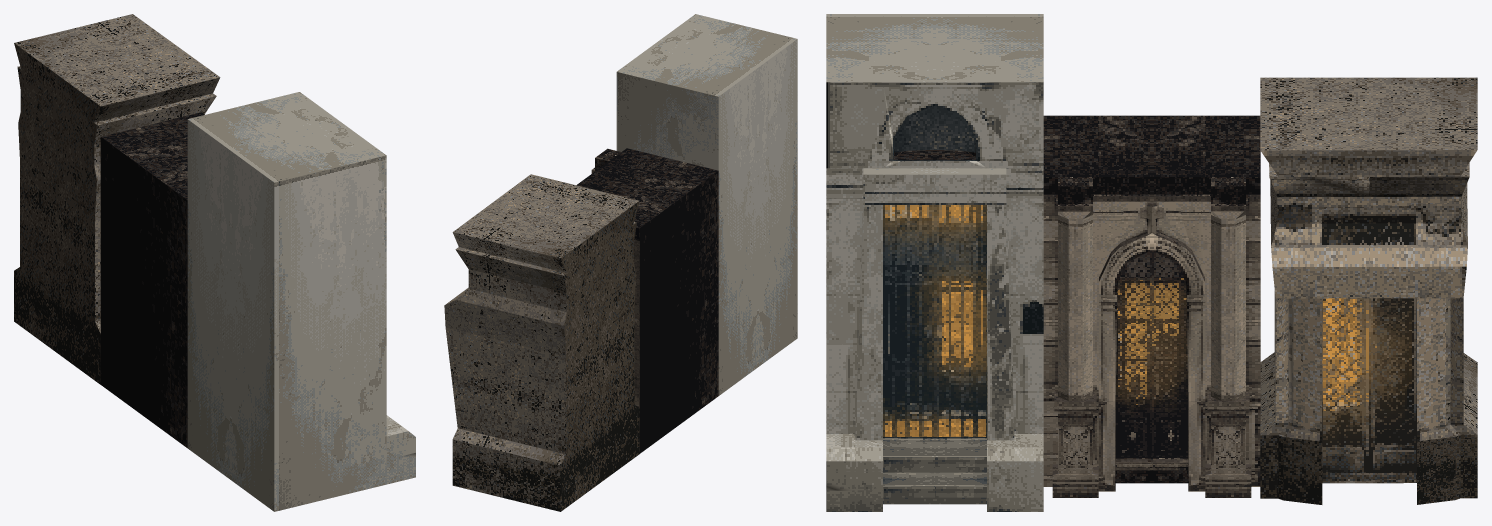
Rendered from bovluz.glb.
The picture shows the model from 3 angles, left to right: view 1: azimuth 30°, elevation 25°; view 2: azimuth 150°, elevation 25°; view 3: azimuth 270°, elevation 25°; orthographic projection. The views are drawn at different scales.
Visible parts, largest first — view 1: bov4luz, bov2luz, bov3luz; view 2: bov2luz, bov4luz, bov3luz; view 3: bov4luz, bov2luz, bov3luz.
Part boxes in pixels (x1,y1,x2,y2): bov4luz: [187, 92, 415, 511]; bov2luz: [14, 14, 220, 384]; bov3luz: [100, 112, 204, 447]; bov2luz: [444, 174, 639, 511]; bov4luz: [616, 14, 797, 395]; bov3luz: [576, 148, 718, 453]; bov4luz: [826, 14, 1043, 511]; bov2luz: [1260, 77, 1477, 504]; bov3luz: [1043, 115, 1260, 497].
Size of the model in its own units: 1.88 by 4.19 by 6.
12 materials, 12 textured.
